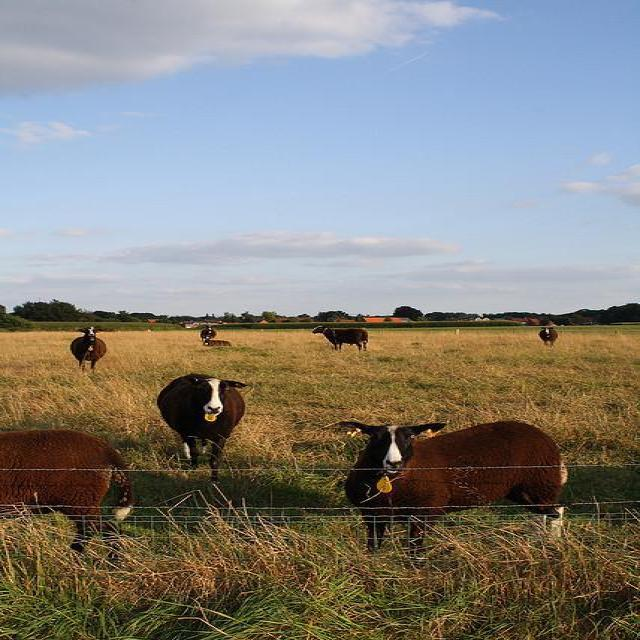Sheep: (311, 416, 571, 553), (0, 430, 136, 542), (159, 373, 248, 485)
